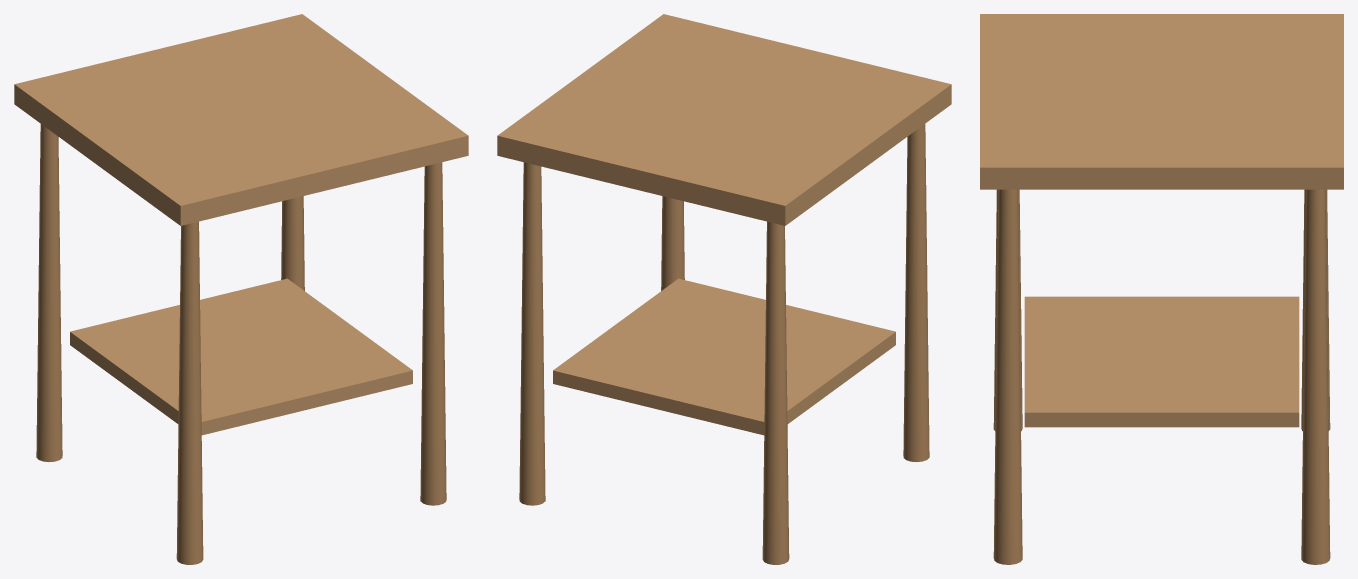
File: sidetable.glb
3 renders of one model, left to right at view 1: azimuth 30°, elevation 25°; view 2: azimuth 150°, elevation 25°; view 3: azimuth 270°, elevation 25°, orthographic. The views are drawn at different scales.
Parts seen in each view (by area): view 1: material-0-top, material-2-shelf, material-1-leg; view 2: material-0-top, material-2-shelf, material-1-leg; view 3: material-0-top, material-2-shelf, material-1-leg.
Part boxes in pixels (x1,y1,x2,y2): material-0-top: (14, 14, 468, 225); material-2-shelf: (70, 278, 412, 435); material-1-leg: (36, 124, 446, 564); material-0-top: (497, 14, 951, 225); material-2-shelf: (553, 278, 895, 435); material-1-leg: (519, 124, 929, 564); material-0-top: (980, 14, 1343, 189); material-2-shelf: (1024, 296, 1299, 427); material-1-leg: (993, 189, 1330, 564).
Bounding box in the file's own units: 0.45 × 0.55 × 0.45.
